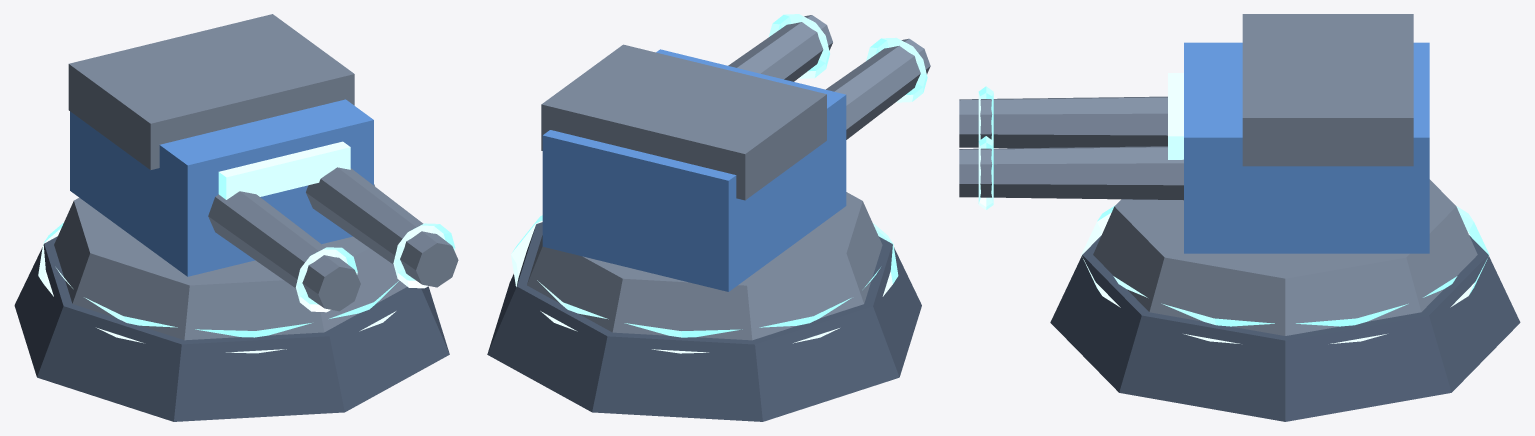
The model's file is pulse.glb.
3 renders of one model, left to right at view 1: azimuth 30°, elevation 25°; view 2: azimuth 150°, elevation 25°; view 3: azimuth 270°, elevation 25°, orthographic. The views are drawn at different scales.
Size of the model in its own units: 0.88 by 0.53 by 1.05.
